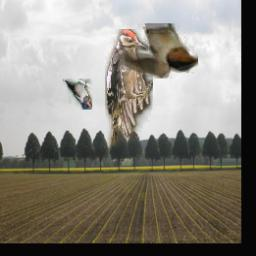Swallow: (120, 24, 199, 80), (63, 79, 92, 110)
Woodpecker: (106, 30, 154, 147)
